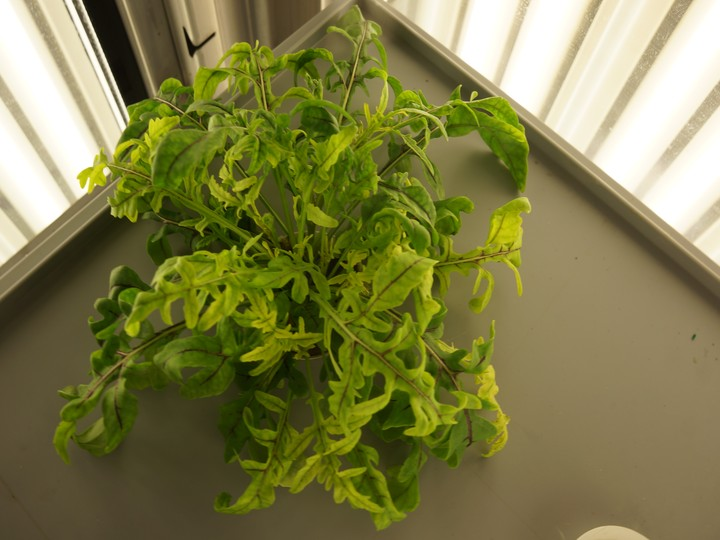roquette_sauvage_red_veined: (47, 12, 540, 540)
